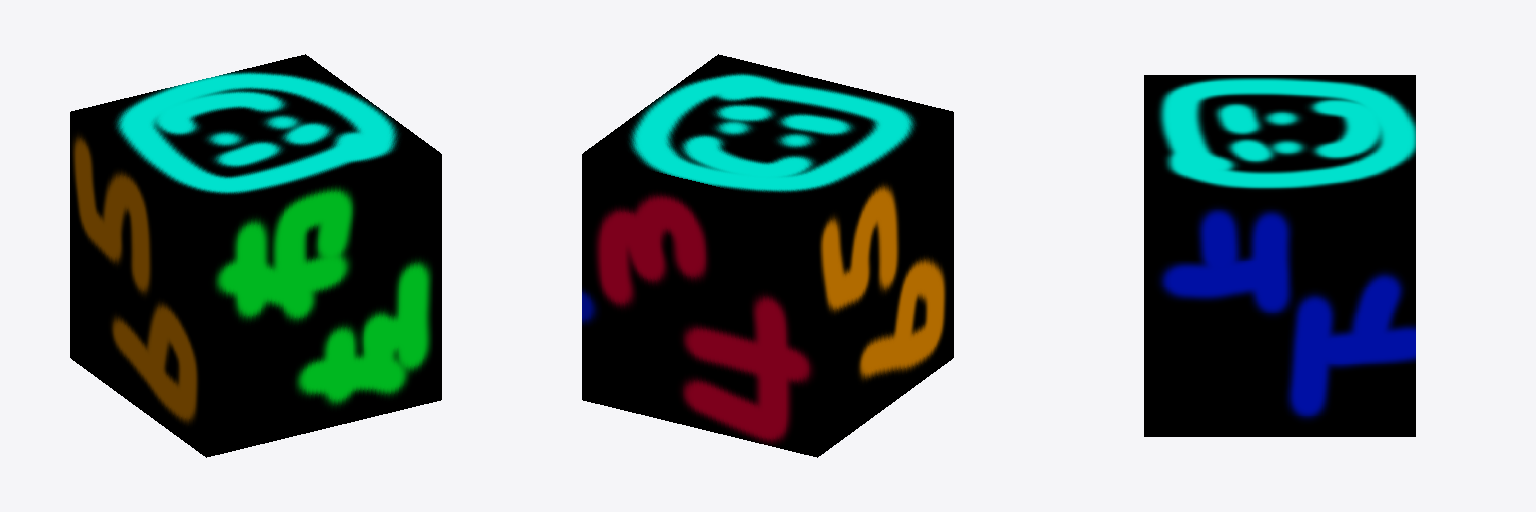
3 views of the same model, side by side, from view 1: azimuth 30°, elevation 25°; view 2: azimuth 150°, elevation 25°; view 3: azimuth 270°, elevation 25° (orthographic).
Visible parts, largest first — view 1: Cube_cub_material; view 2: Cube_cub_material; view 3: Cube_cub_material.
Boxes of the visible parts, x1=… form: Cube_cub_material: x1=70, y1=54, x2=441, y2=457; Cube_cub_material: x1=582, y1=54, x2=953, y2=457; Cube_cub_material: x1=1144, y1=75, x2=1415, y2=436.
Bounding box in the file's own units: 2 × 2 × 2.
Materials: 1 (1 with a texture image).